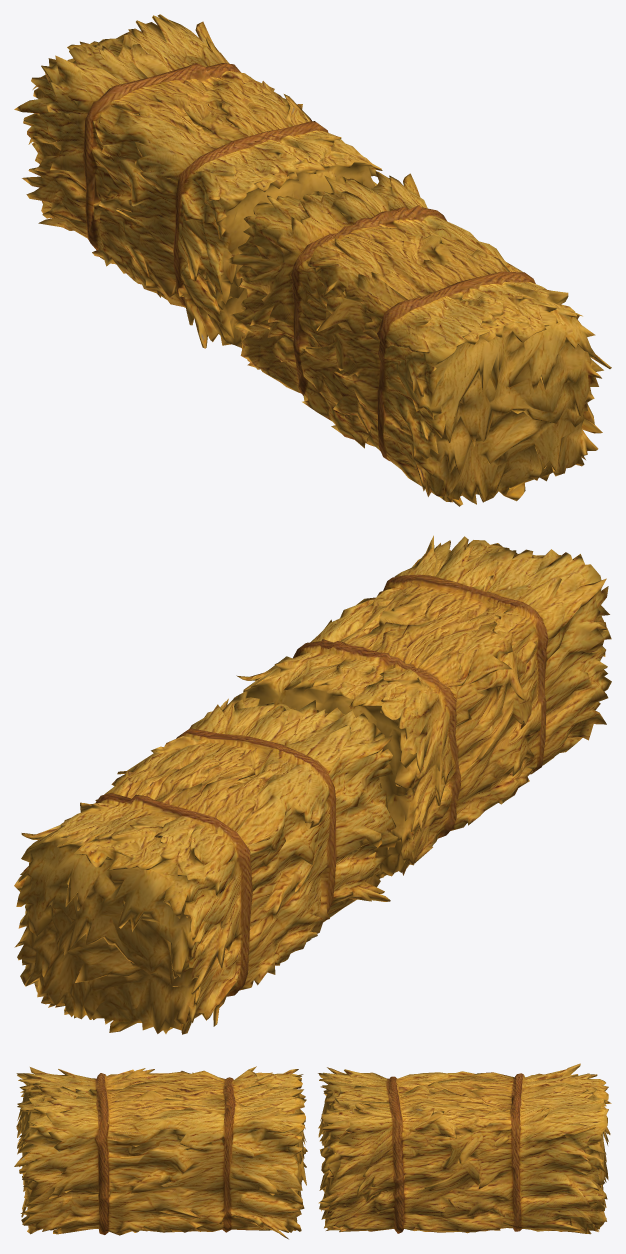
File: hay+bale+3d+model.fbx
The picture shows the model from 3 angles, top to bottom: view 1: azimuth 30°, elevation 25°; view 2: azimuth 150°, elevation 25°; view 3: azimuth 270°, elevation 25°; orthographic projection. The views are drawn at different scales.
Visible parts, largest first — view 1: tripo_mesh_cf6fa7e3-7edd-4642-a806-8bdb2858b9ab; view 2: tripo_mesh_cf6fa7e3-7edd-4642-a806-8bdb2858b9ab; view 3: tripo_mesh_cf6fa7e3-7edd-4642-a806-8bdb2858b9ab.
Part boxes in pixels (x1=…): tripo_mesh_cf6fa7e3-7edd-4642-a806-8bdb2858b9ab: x1=14, y1=14, x2=611, y2=506; tripo_mesh_cf6fa7e3-7edd-4642-a806-8bdb2858b9ab: x1=14, y1=535, x2=611, y2=1034; tripo_mesh_cf6fa7e3-7edd-4642-a806-8bdb2858b9ab: x1=14, y1=1063, x2=611, y2=1239.
Size of the model in its own units: 0.2749 by 0.2453 by 1.
1 material, 1 textured.
